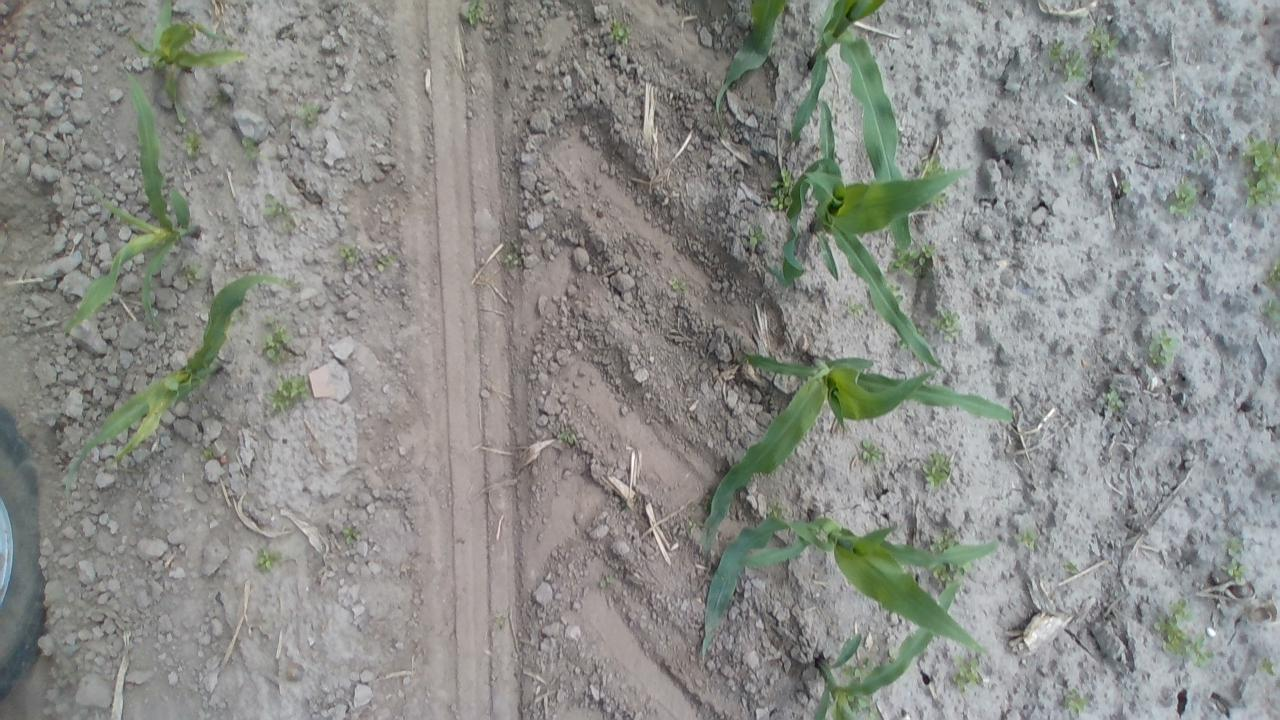Maize: (708, 345, 1018, 546), (778, 68, 974, 376), (56, 270, 290, 493), (701, 516, 994, 671), (50, 73, 202, 340), (786, 0, 916, 256), (800, 574, 970, 720), (129, 0, 250, 125), (716, 0, 791, 134)
Weeds: (1153, 596, 1211, 666), (1242, 133, 1278, 212), (1046, 38, 1088, 84), (266, 373, 312, 412), (886, 242, 932, 276), (260, 319, 294, 364), (1146, 328, 1180, 369), (921, 450, 953, 491), (1169, 180, 1202, 219), (769, 166, 796, 213), (1087, 26, 1121, 61), (950, 652, 981, 690), (1224, 536, 1248, 584), (202, 87, 234, 122), (929, 565, 972, 590), (264, 194, 294, 228), (932, 305, 961, 340), (1062, 686, 1094, 716), (860, 439, 886, 468), (296, 100, 325, 126), (253, 549, 285, 572), (849, 696, 880, 717), (607, 16, 632, 42), (1104, 386, 1126, 415), (919, 156, 948, 178), (460, 1, 485, 26), (1010, 527, 1038, 549), (932, 530, 962, 550), (182, 130, 202, 160), (180, 262, 203, 286), (768, 498, 792, 520), (1192, 140, 1212, 164), (747, 226, 767, 250), (243, 134, 261, 160), (341, 523, 362, 545), (501, 248, 523, 269), (1264, 260, 1280, 288), (1130, 70, 1150, 92), (340, 244, 360, 266), (1256, 658, 1278, 676), (556, 426, 576, 445), (375, 254, 395, 273), (844, 300, 866, 317), (847, 663, 869, 680), (1266, 301, 1280, 327), (492, 609, 509, 630), (601, 570, 620, 588), (669, 274, 686, 294), (936, 189, 951, 210), (1061, 559, 1080, 575), (684, 516, 700, 533), (1066, 152, 1081, 170), (1117, 175, 1130, 195), (202, 442, 216, 460)
